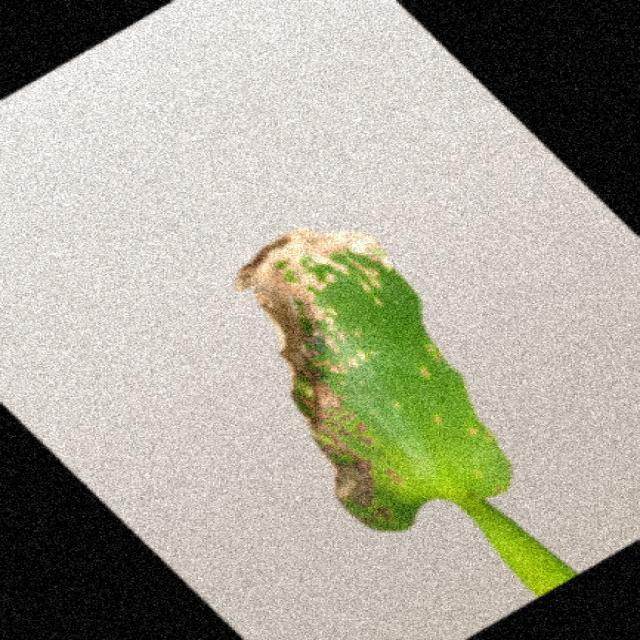daun berpenyakit bercak: (237, 229, 576, 595)
